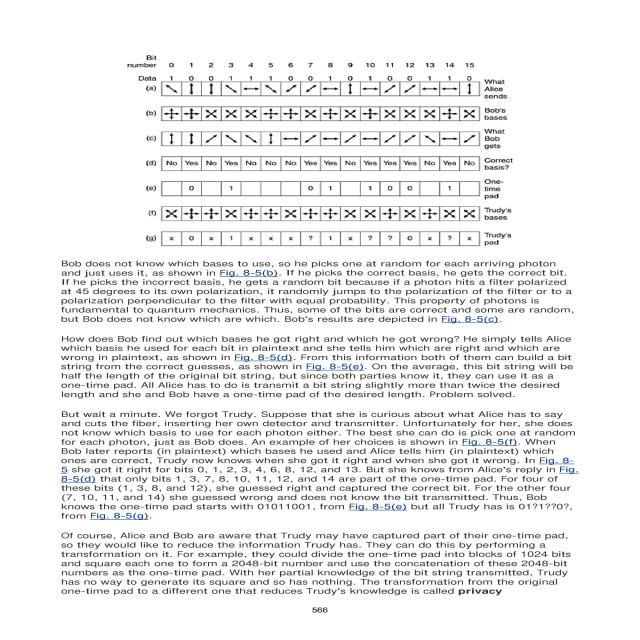diagram: (120, 42, 529, 254)
